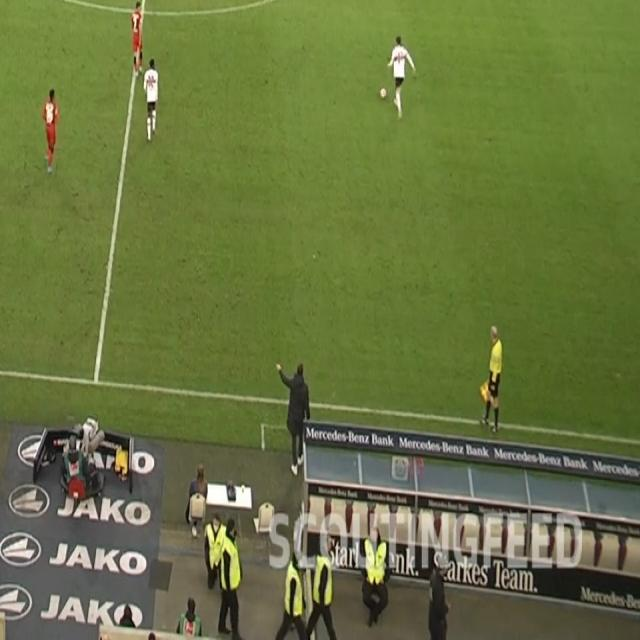ball: (379, 86, 387, 100)
